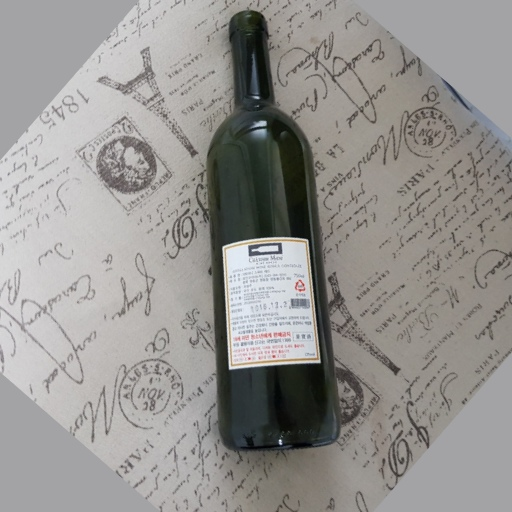Glass_2: (207, 9, 344, 458)
